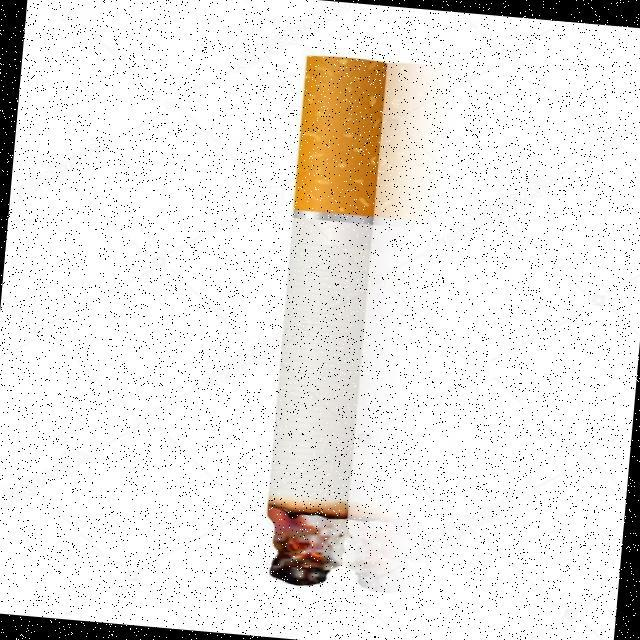cigarette: (250, 52, 395, 590)
